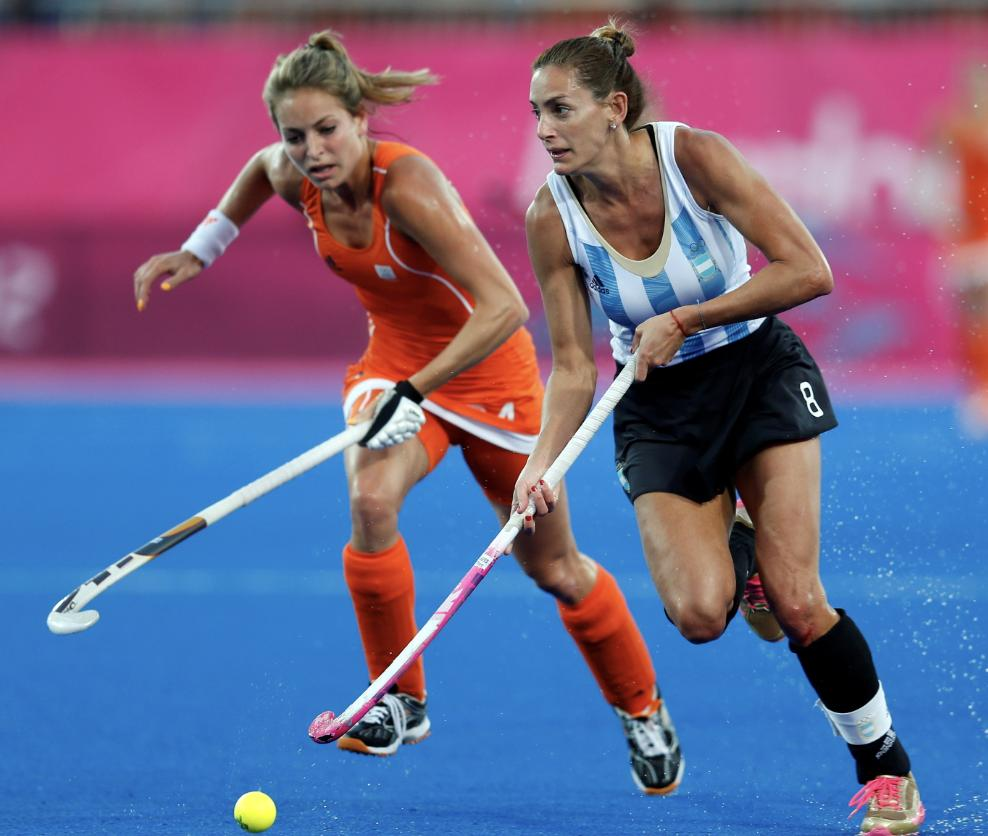ball: (227, 772, 293, 835)
